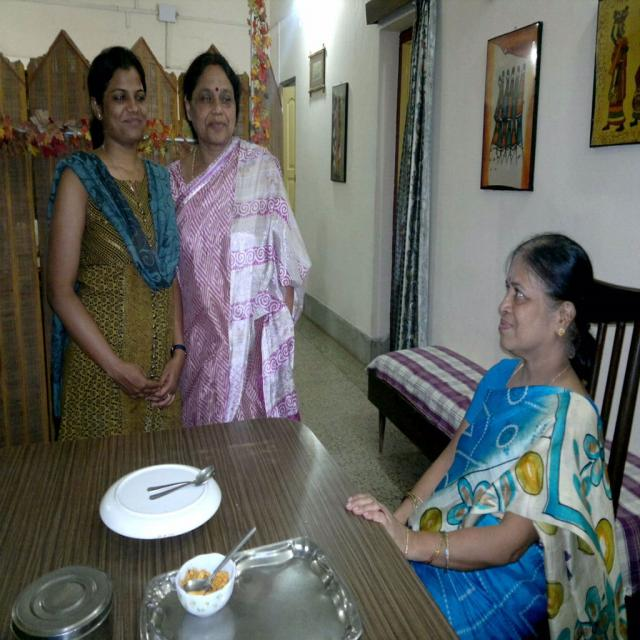non-organic waste: (107, 465, 217, 545)
